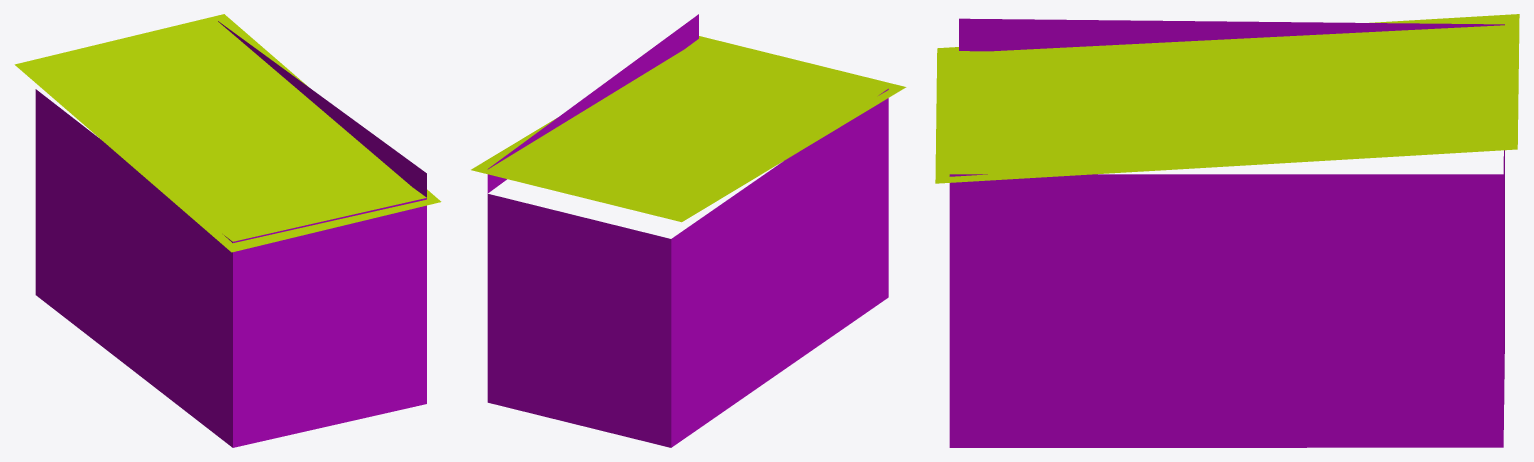
Rendered from sdt_6.glb.
3 views of the same model, side by side, from view 1: azimuth 30°, elevation 25°; view 2: azimuth 150°, elevation 25°; view 3: azimuth 270°, elevation 25° (orthographic). The views are drawn at different scales.
Parts seen in each view (by area): view 1: sdt_6; view 2: sdt_6; view 3: sdt_6.
Part boxes in pixels (x1,y1,x2,y2): sdt_6: (14,14,441,447); sdt_6: (471,14,906,447); sdt_6: (935,14,1519,447).
Size of the model in its own units: 9.08 by 9.46 by 16.37.
